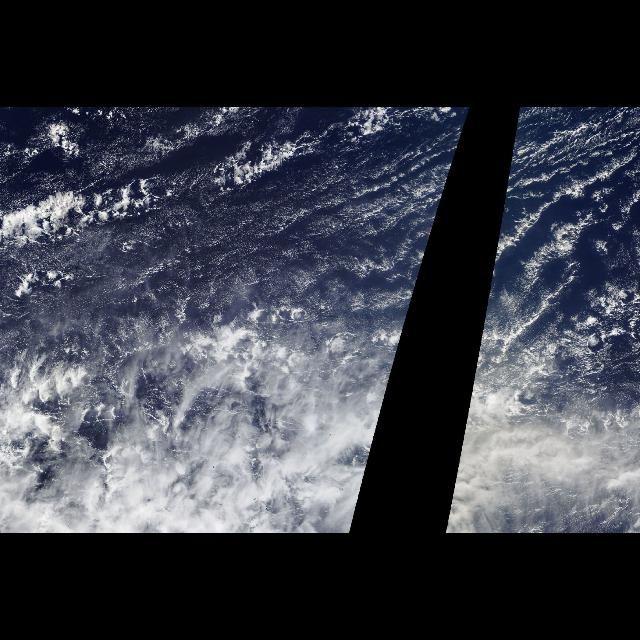Fish: (3, 113, 206, 255)
Sugar: (0, 115, 468, 398), (470, 115, 640, 398)
